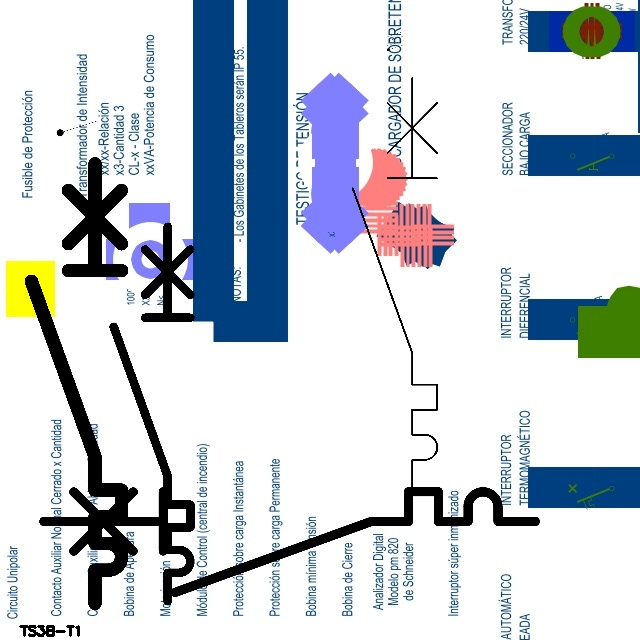interruptor_termomagnetico: (31, 479, 548, 605), (20, 152, 133, 615), (342, 67, 448, 502), (104, 217, 200, 611)
